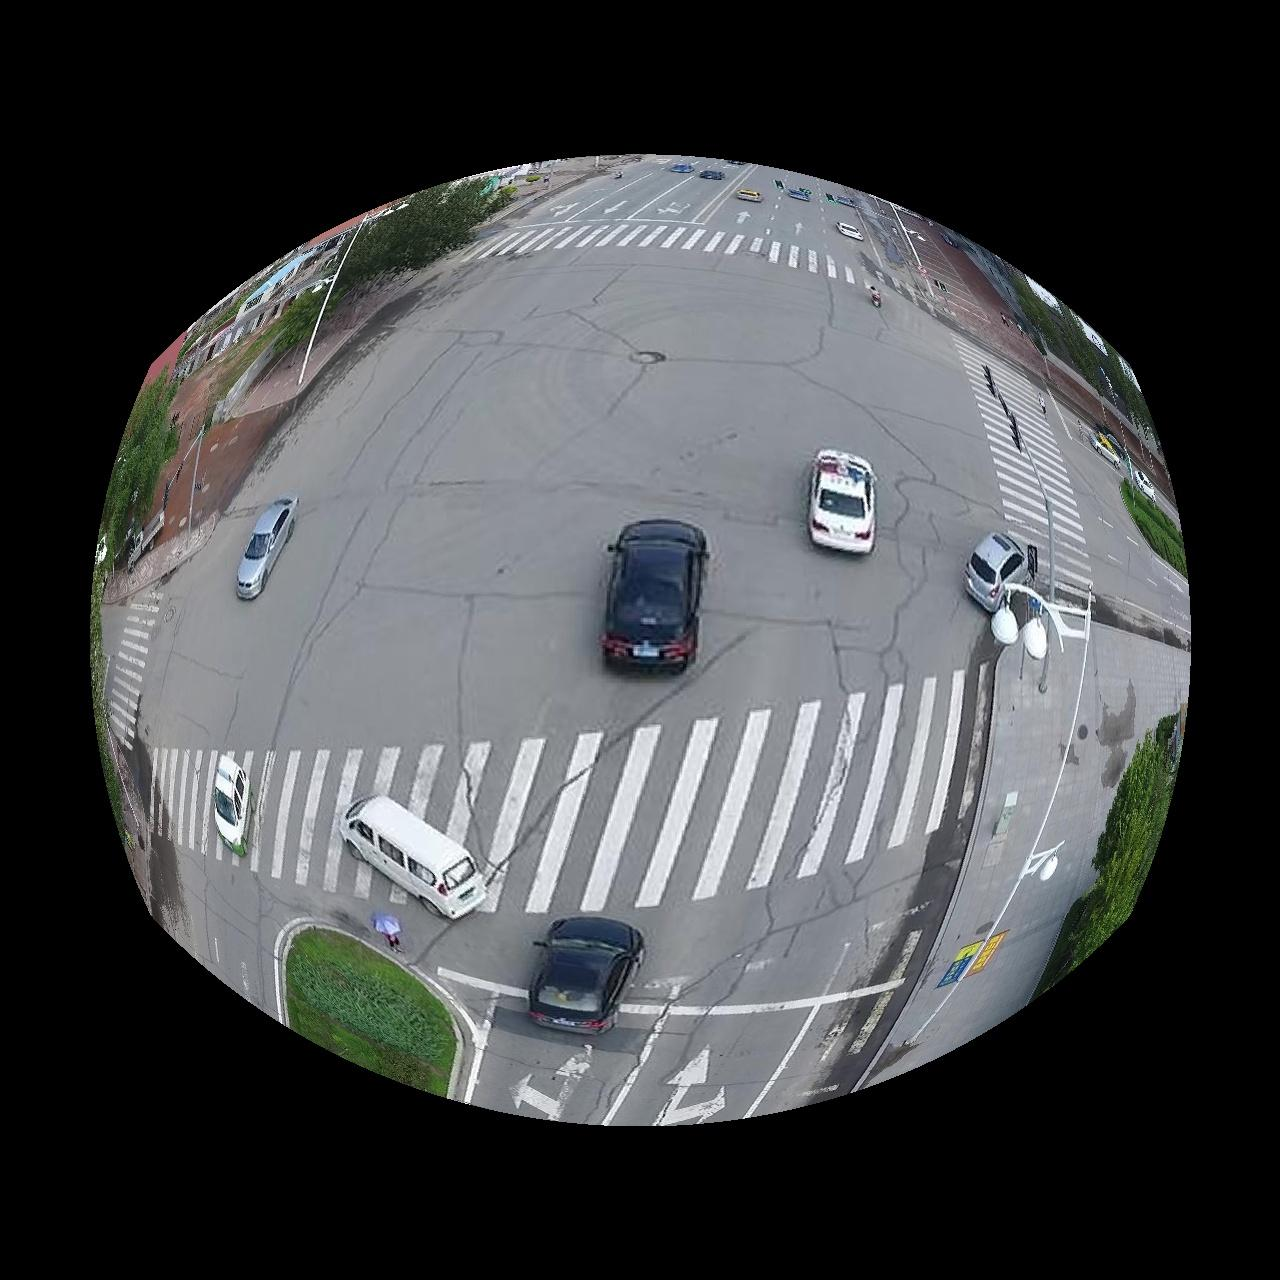cars: (340, 796, 486, 920), (600, 519, 712, 673), (527, 917, 644, 1036), (234, 493, 297, 599), (966, 531, 1028, 613), (211, 756, 250, 858)
trees: (1036, 710, 1185, 999), (964, 241, 1155, 429), (284, 930, 457, 1097), (338, 175, 515, 287), (95, 370, 177, 567), (1122, 481, 1190, 578), (271, 275, 328, 353), (333, 281, 345, 306)
